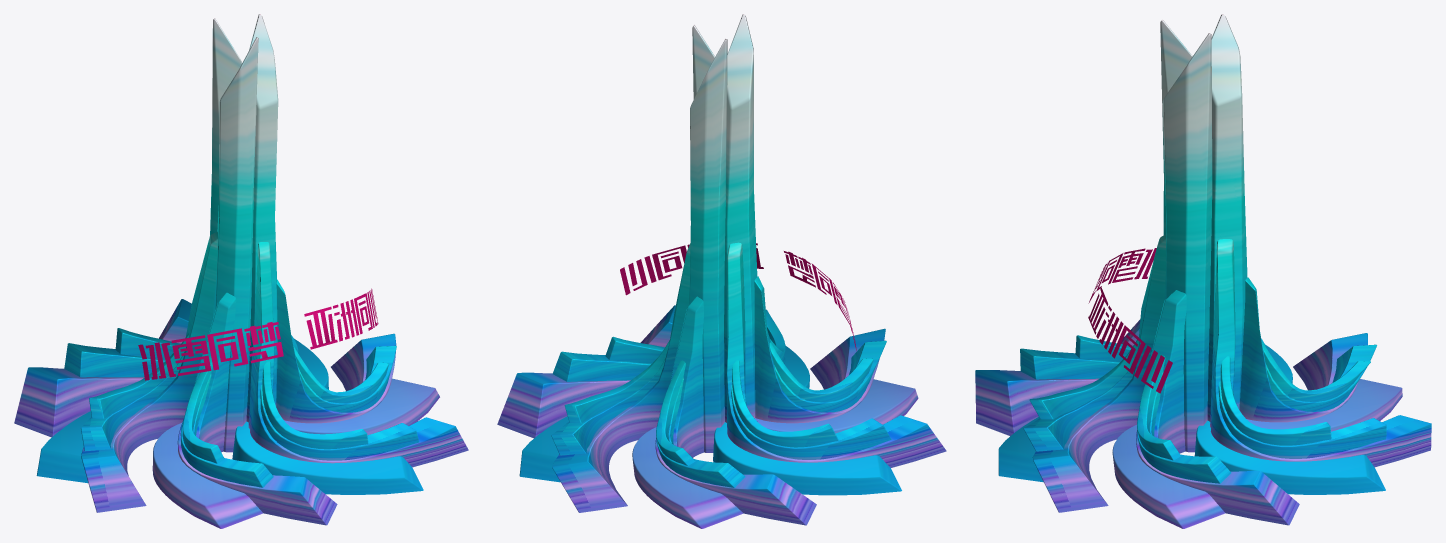
File: BingXueShiJie.fbx
3 views of the same model, side by side, from view 1: azimuth 30°, elevation 25°; view 2: azimuth 150°, elevation 25°; view 3: azimuth 270°, elevation 25° (orthographic).
Visible parts, largest first — view 1: Bingxueshijie; view 2: Bingxueshijie; view 3: Bingxueshijie.
Part boxes in pixels (x1,y1,x2,y2): Bingxueshijie: (14,14,468,528); Bingxueshijie: (497,14,946,528); Bingxueshijie: (975,14,1431,528).
Bounding box in the file's own units: 157 × 163 × 162.
Materials: 1 (1 with a texture image).
